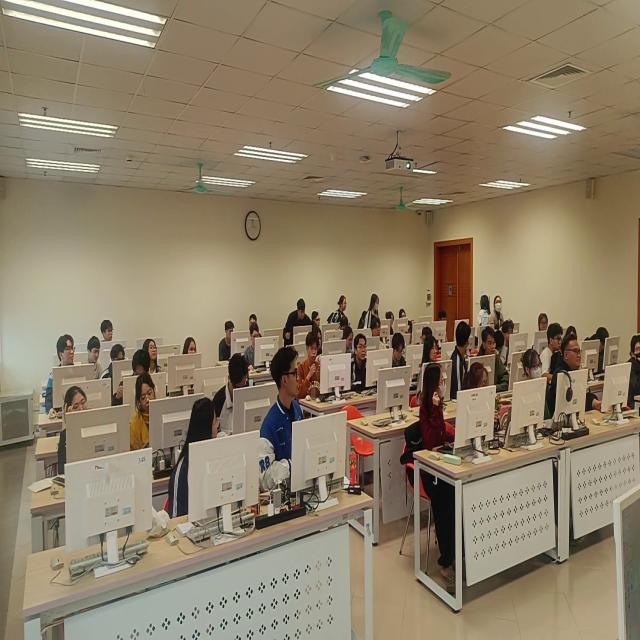raise_head: (550, 335, 584, 416), (59, 387, 89, 476), (478, 328, 511, 392), (417, 337, 439, 406), (539, 324, 563, 379), (625, 334, 640, 411), (350, 335, 368, 393), (521, 347, 545, 384), (143, 339, 160, 375), (371, 317, 387, 351), (183, 338, 198, 357), (539, 313, 550, 333)
stand: (283, 299, 313, 348), (359, 294, 381, 331), (328, 296, 349, 324), (488, 297, 505, 330), (479, 295, 491, 328)
using_computer: (213, 355, 250, 441), (114, 351, 152, 407), (131, 373, 157, 453), (102, 344, 126, 380), (467, 363, 490, 395), (244, 323, 260, 368), (502, 320, 516, 368), (220, 321, 235, 364), (391, 334, 408, 368), (341, 327, 354, 353), (315, 331, 324, 356), (422, 327, 434, 344), (312, 311, 322, 329), (399, 308, 408, 322), (567, 327, 577, 336)
using_phone: (298, 334, 323, 401)
